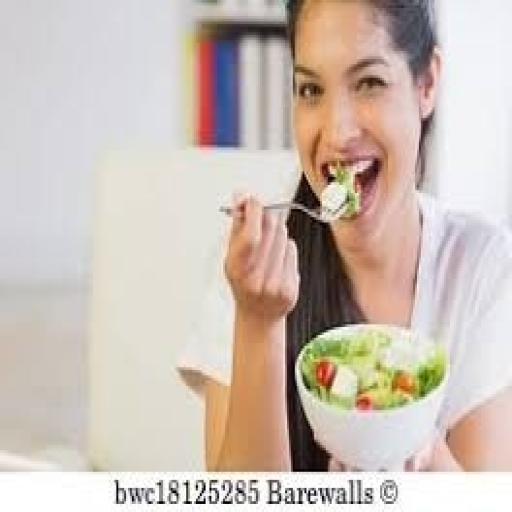eating: (194, 0, 510, 472)
